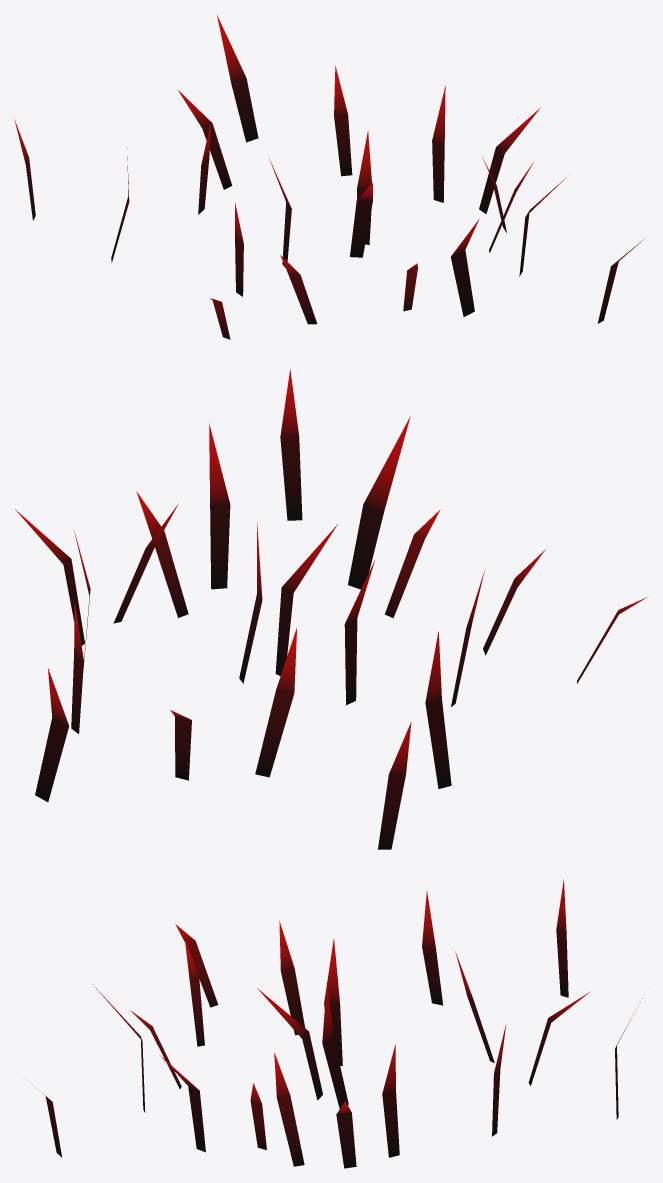
The model's file is PatchGrass01.fbx.
3 views of the same model, one above another, from view 1: azimuth 30°, elevation 25°; view 2: azimuth 150°, elevation 25°; view 3: azimuth 270°, elevation 25° (orthographic). The views are drawn at different scales.
Parts seen in each view (by area): view 1: PatchGrass01_LOD0; view 2: PatchGrass01_LOD0; view 3: PatchGrass01_LOD0.
Part boxes in pixels (x1=…): PatchGrass01_LOD0: x1=14, y1=15, x2=645, y2=339; PatchGrass01_LOD0: x1=15, y1=369, x2=646, y2=849; PatchGrass01_LOD0: x1=28, y1=879, x2=642, y2=1168.
Bounding box in the file's own units: 133 × 37.21 × 171.
